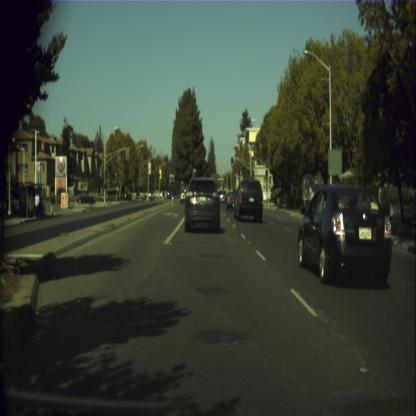Green: (231, 157, 233, 166)
Red: (170, 177, 173, 183), (193, 168, 195, 177)
off: (265, 168, 268, 180)
